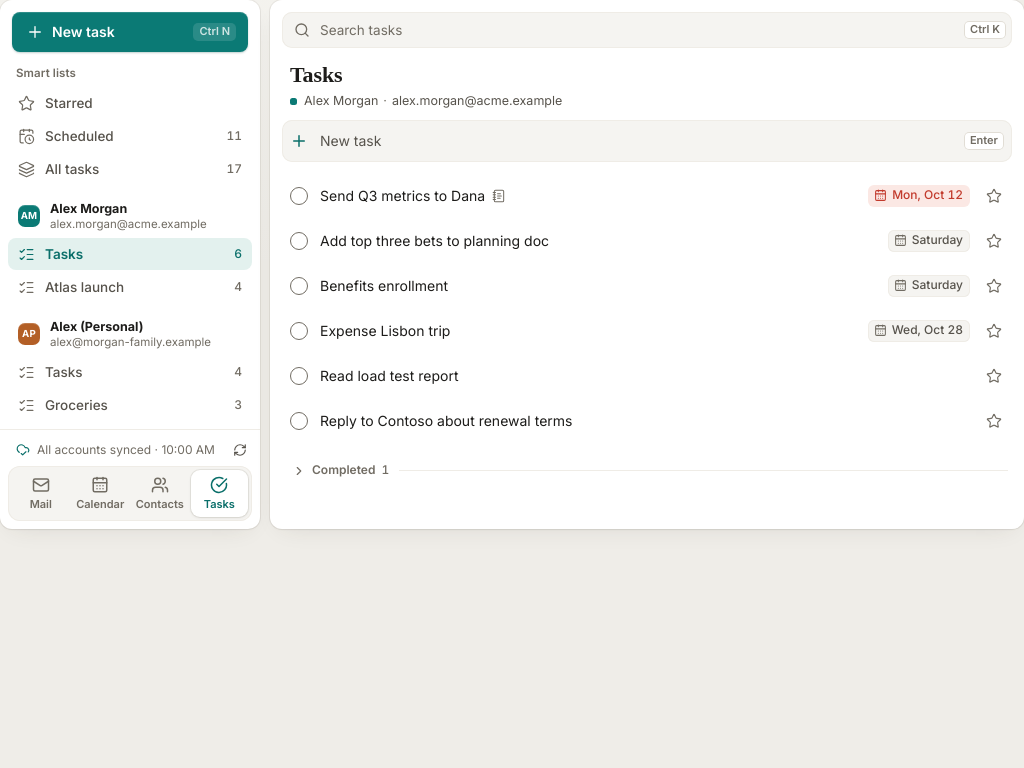
Task lists › shows an empty state for a list without tasks
Check: the list "lists" is shown, box [0, 56, 260, 429]
Click the option "Starred" at (55, 103), box [18, 94, 93, 112]
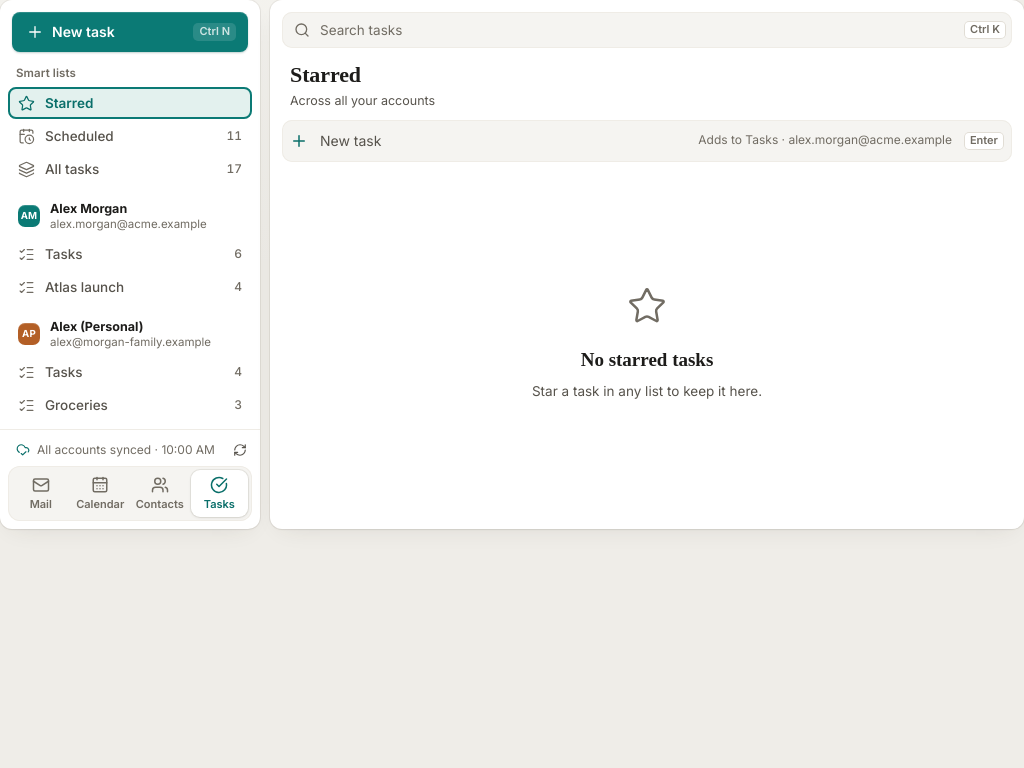
Check: the text "No starred tasks" is shown, box [581, 347, 713, 374]
